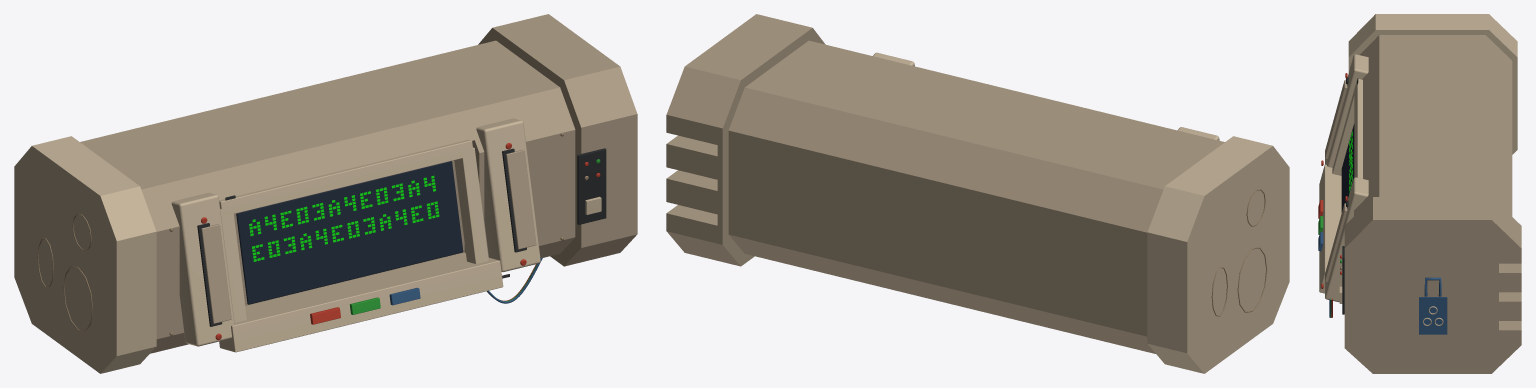
File: long-range-transmitter.glb
3 views of the same model, side by side, from view 1: azimuth 30°, elevation 25°; view 2: azimuth 150°, elevation 25°; view 3: azimuth 270°, elevation 25° (orthographic). The views are drawn at different scales.
Parts seen in each view (by area): view 1: Main faceted transmitter enclosure, Left octagonal end cover, Audio visual display glass, Right encryption end cover, Console lower control shelf, Data cartridge drive casing, Data cartridge drive casing.001, Console upper bezel, Solid-only green packet glyphs, Console side bezel.001, Cartridge front door, Cartridge front door.001 (+2 smaller); view 2: Main faceted transmitter enclosure, Left octagonal end cover, Right encryption end cover; view 3: Right encryption end cover, Main faceted transmitter enclosure, Left octagonal end cover, Console lower control shelf, Data cartridge drive casing.001, Data cartridge drive casing, Solid-only blue end emblem, Console upper bezel, Console side bezel, Audio visual display glass, Cartridge front door, Cartridge front door.001 (+2 smaller).
Part boxes in pixels (left/top/right/bottom): Main faceted transmitter enclosure: left=80, top=40, right=575, bottom=353; Left octagonal end cover: left=14, top=136, right=156, bottom=373; Audio visual display glass: left=236, top=161, right=463, bottom=304; Right encryption end cover: left=478, top=14, right=637, bottom=266; Console lower control shelf: left=219, top=257, right=503, bottom=352; Data cartridge drive casing: left=171, top=192, right=234, bottom=346; Data cartridge drive casing.001: left=476, top=118, right=540, bottom=272; Console upper bezel: left=219, top=139, right=472, bottom=215; Solid-only green packet glyphs: left=249, top=175, right=439, bottom=261; Console side bezel.001: left=454, top=147, right=488, bottom=263; Cartridge front door: left=201, top=224, right=231, bottom=323; Cartridge front door.001: left=506, top=149, right=536, bottom=249; Main faceted transmitter enclosure: left=728, top=40, right=1224, bottom=353; Left octagonal end cover: left=1147, top=136, right=1289, bottom=373; Right encryption end cover: left=666, top=14, right=825, bottom=266; Right encryption end cover: left=1344, top=197, right=1521, bottom=373; Main faceted transmitter enclosure: left=1354, top=35, right=1512, bottom=216; Left octagonal end cover: left=1348, top=14, right=1517, bottom=154; Console lower control shelf: left=1319, top=164, right=1341, bottom=293; Data cartridge drive casing.001: left=1325, top=177, right=1368, bottom=302; Data cartridge drive casing: left=1325, top=54, right=1368, bottom=167; Solid-only blue end emblem: left=1419, top=297, right=1447, bottom=334; Console upper bezel: left=1354, top=79, right=1362, bottom=178; Console side bezel: left=1332, top=85, right=1355, bottom=175; Audio visual display glass: left=1341, top=124, right=1354, bottom=212; Cartridge front door: left=1325, top=80, right=1347, bottom=159; Cartridge front door.001: left=1325, top=203, right=1347, bottom=282.
Bounding box in the file's own units: 3.16 × 1.08 × 1.29.
